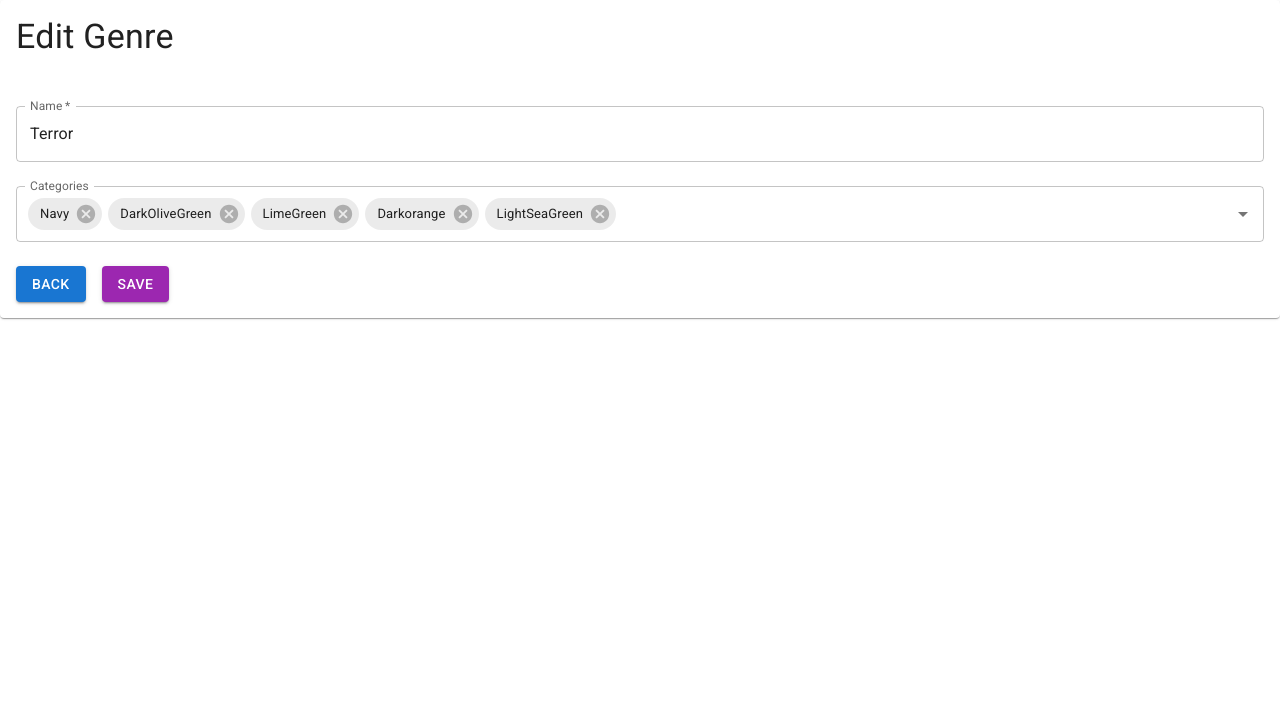
Scenario: GenreEdit › should handle submit error
Replace the text in the field with test id "name" with "Comedy" at point(640, 134), box [16, 106, 1264, 162]
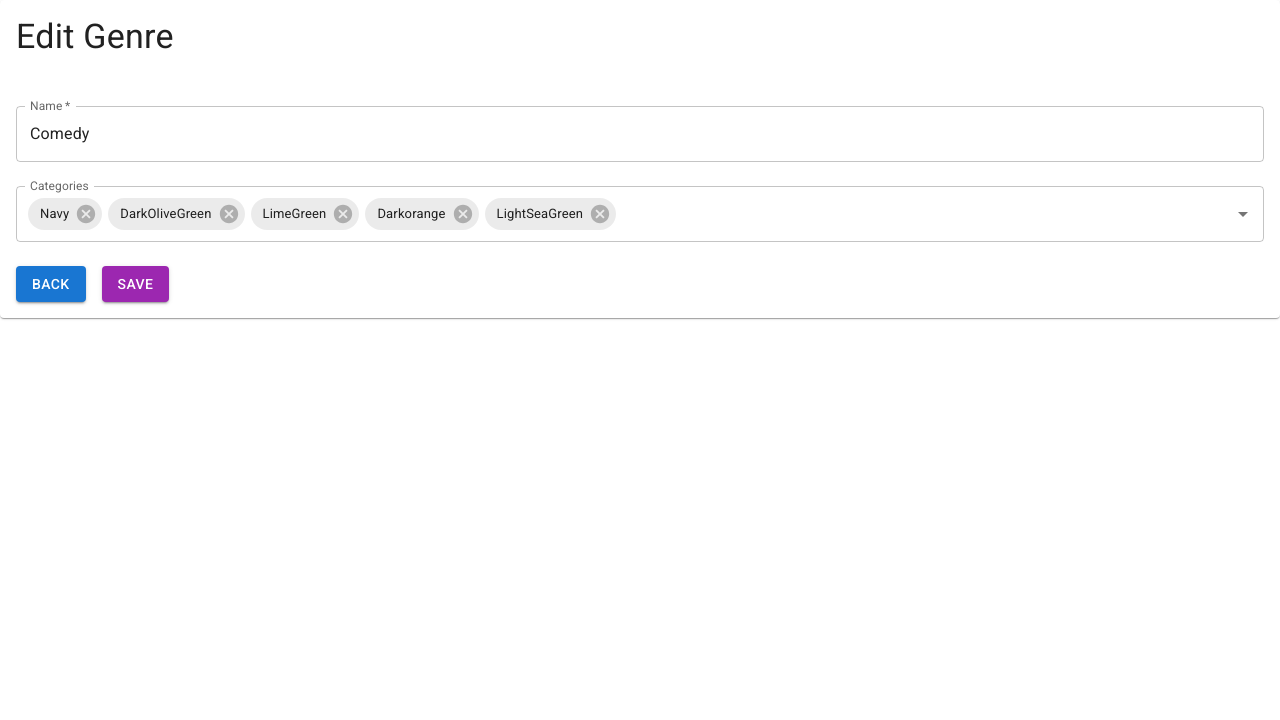
Click the button "Save" at point(136, 284), box [102, 266, 169, 302]
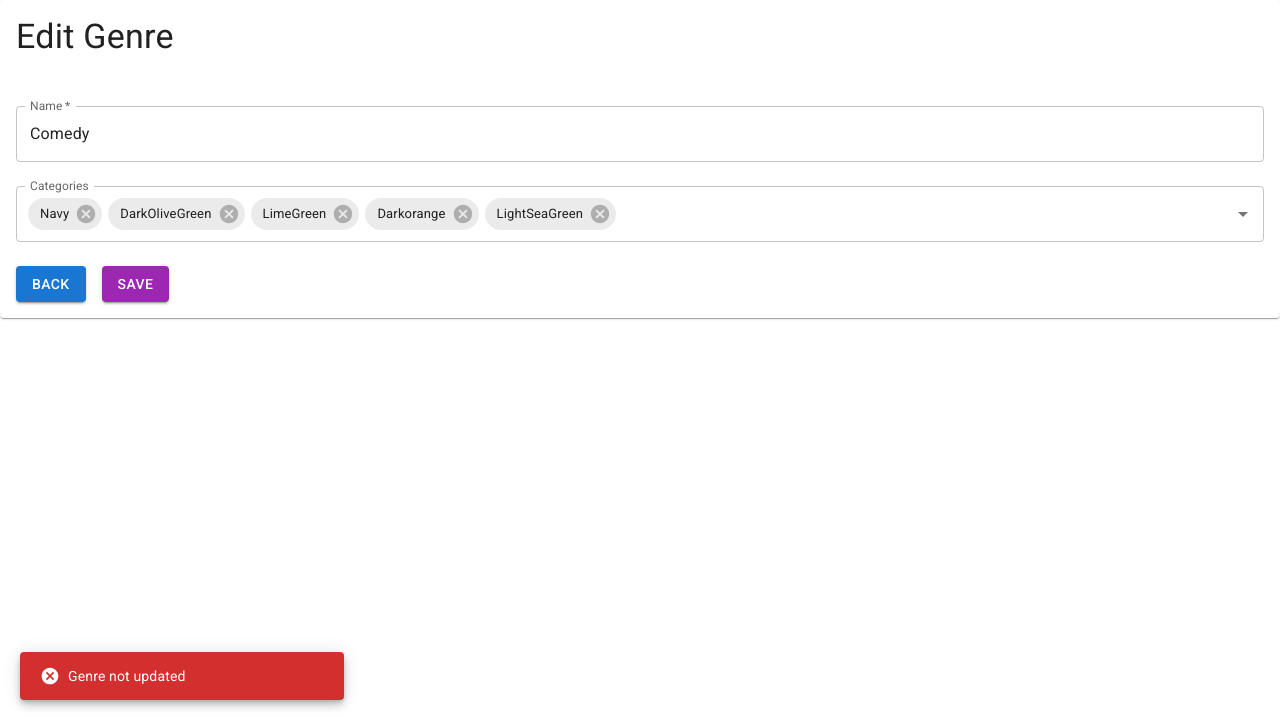
Expected: the text "Genre not updated" is shown, [40, 666, 186, 686]
